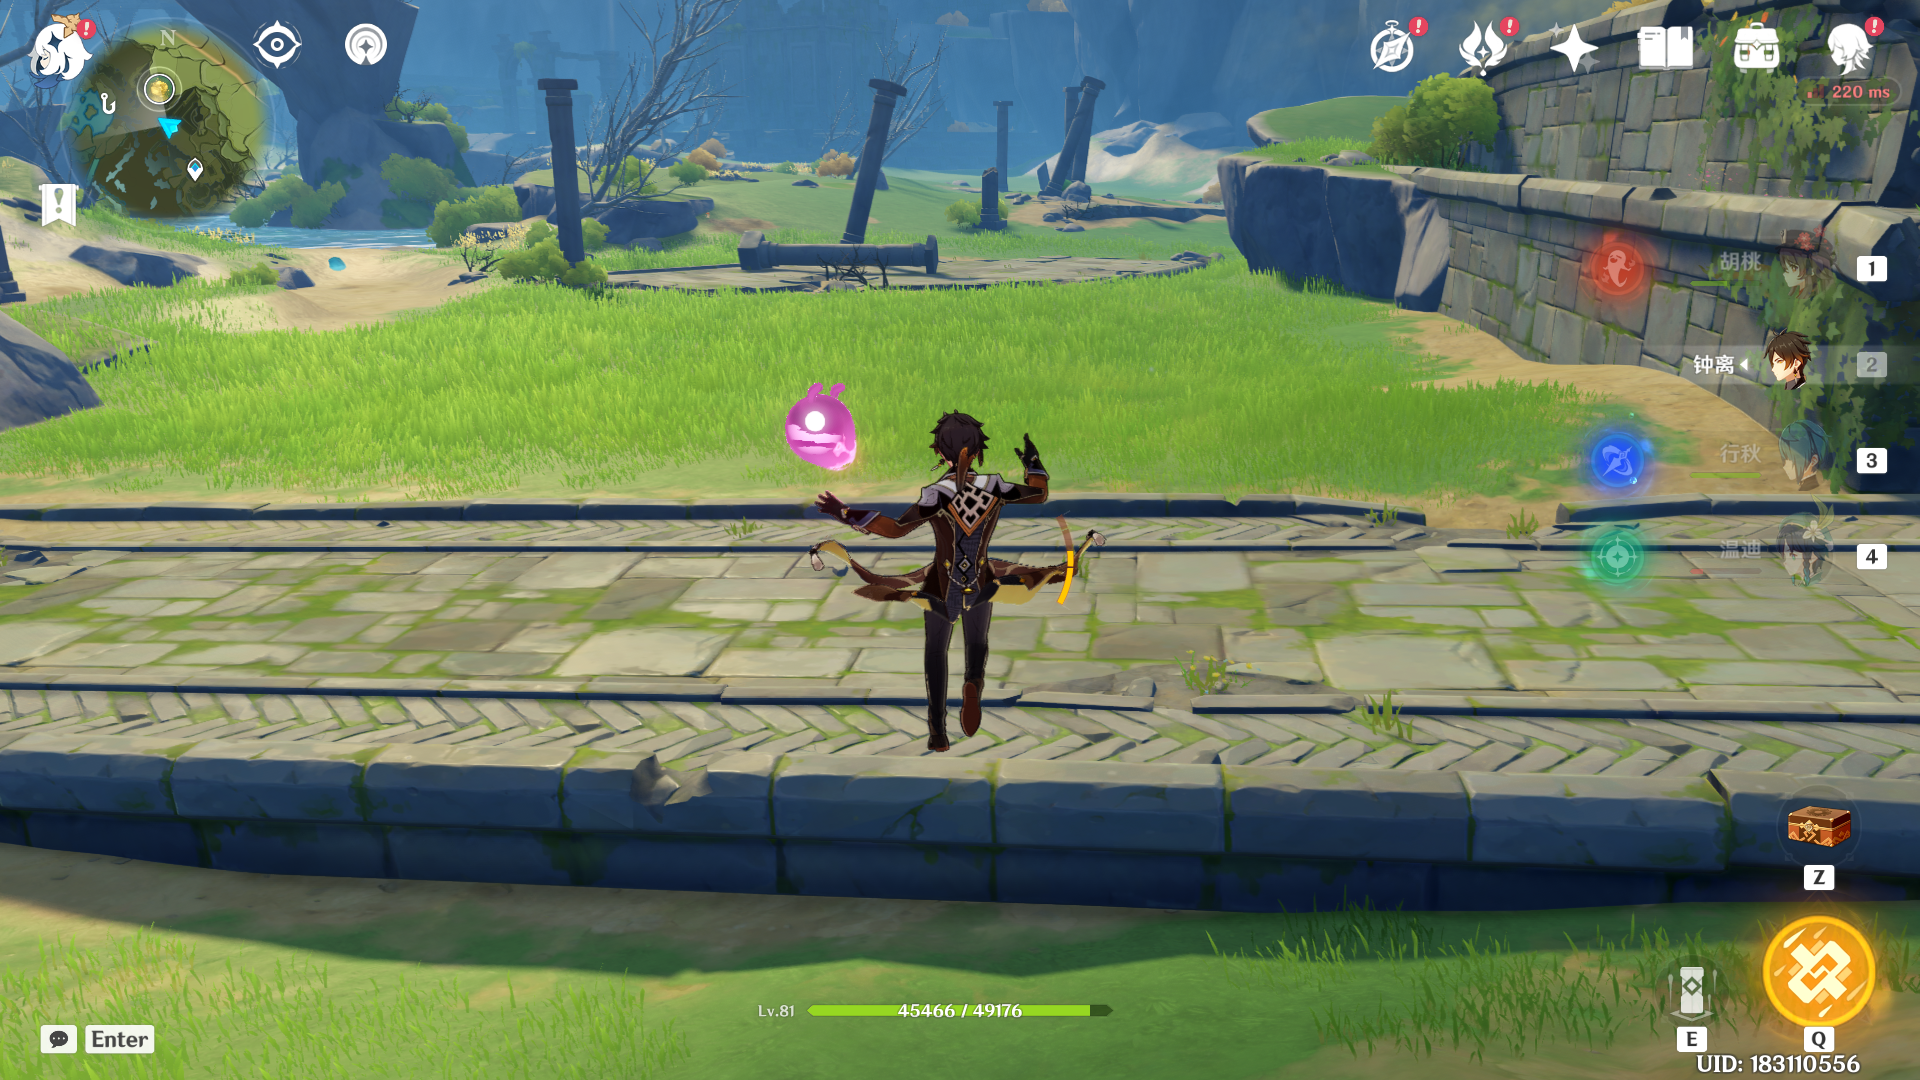character: (855, 404, 1087, 773)
